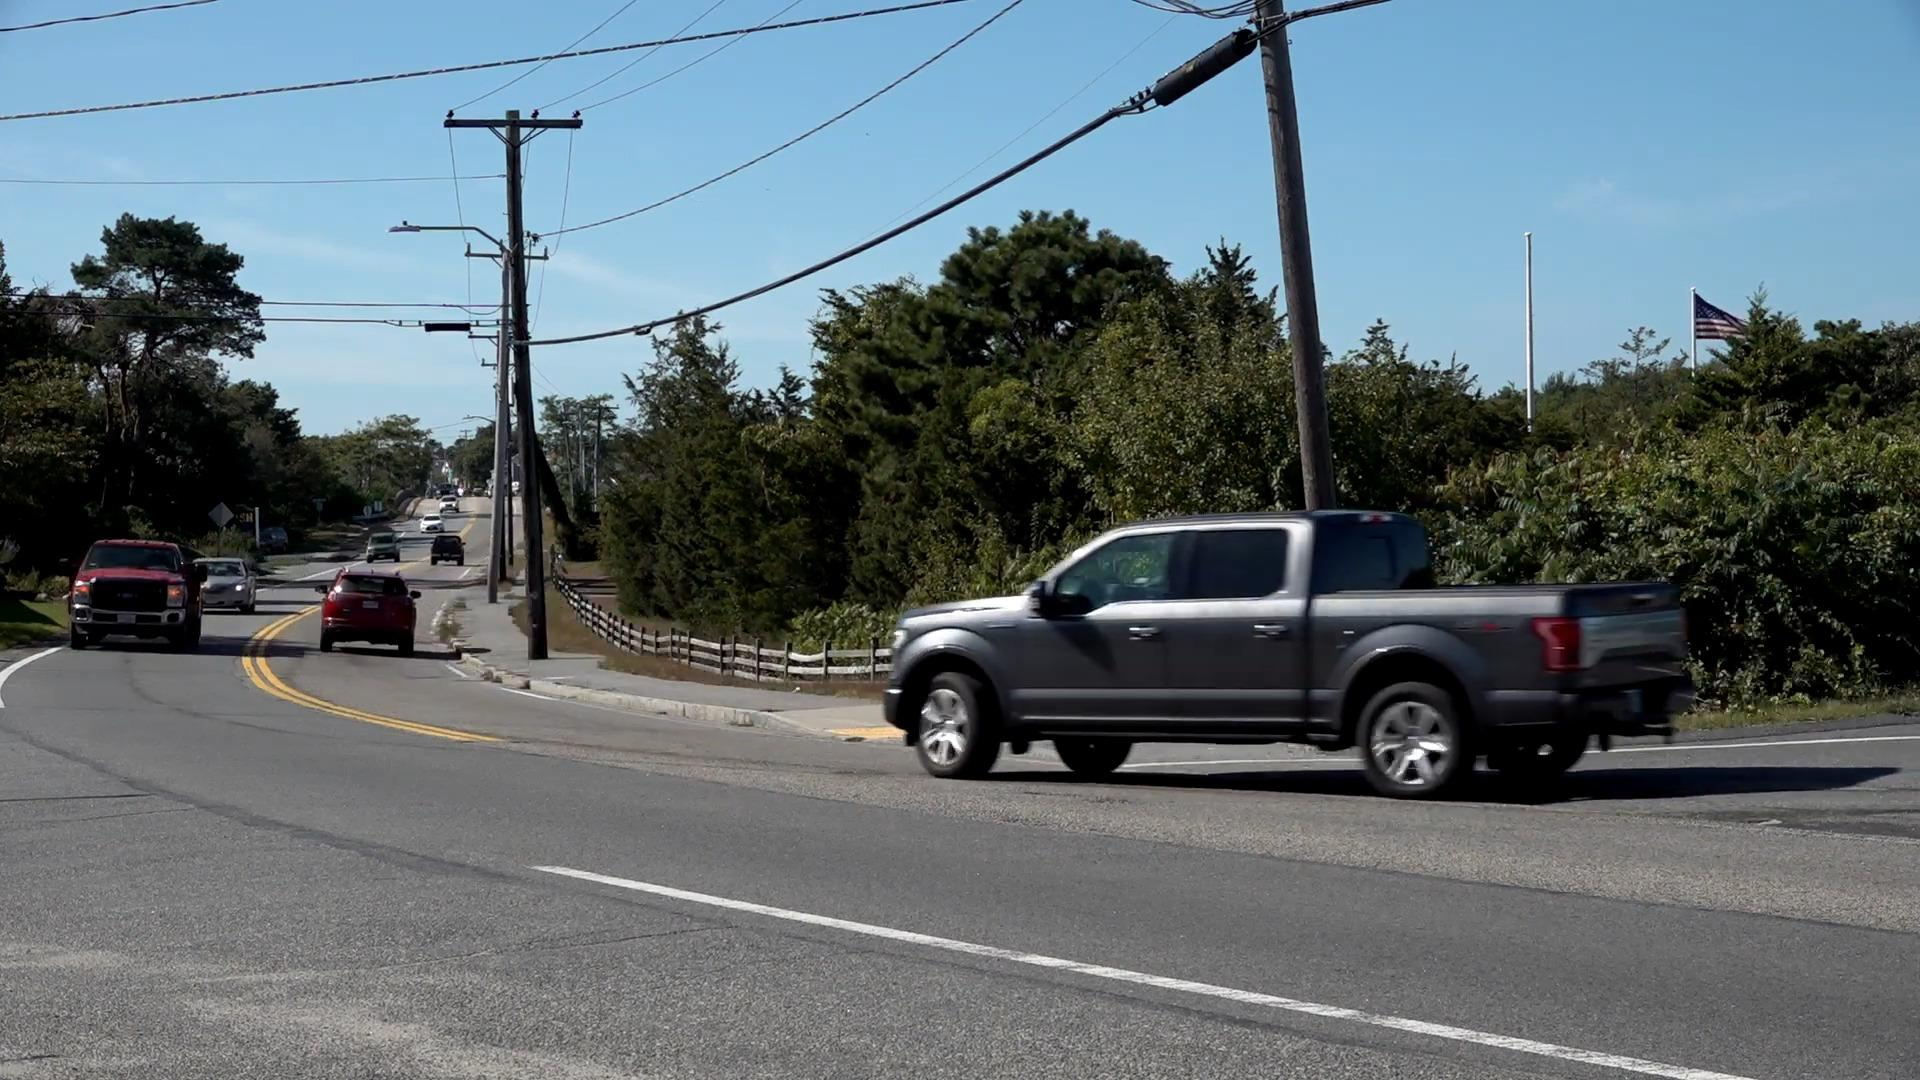pickup: (892, 502, 1691, 807), (63, 527, 201, 646)
suv: (321, 566, 417, 651)
